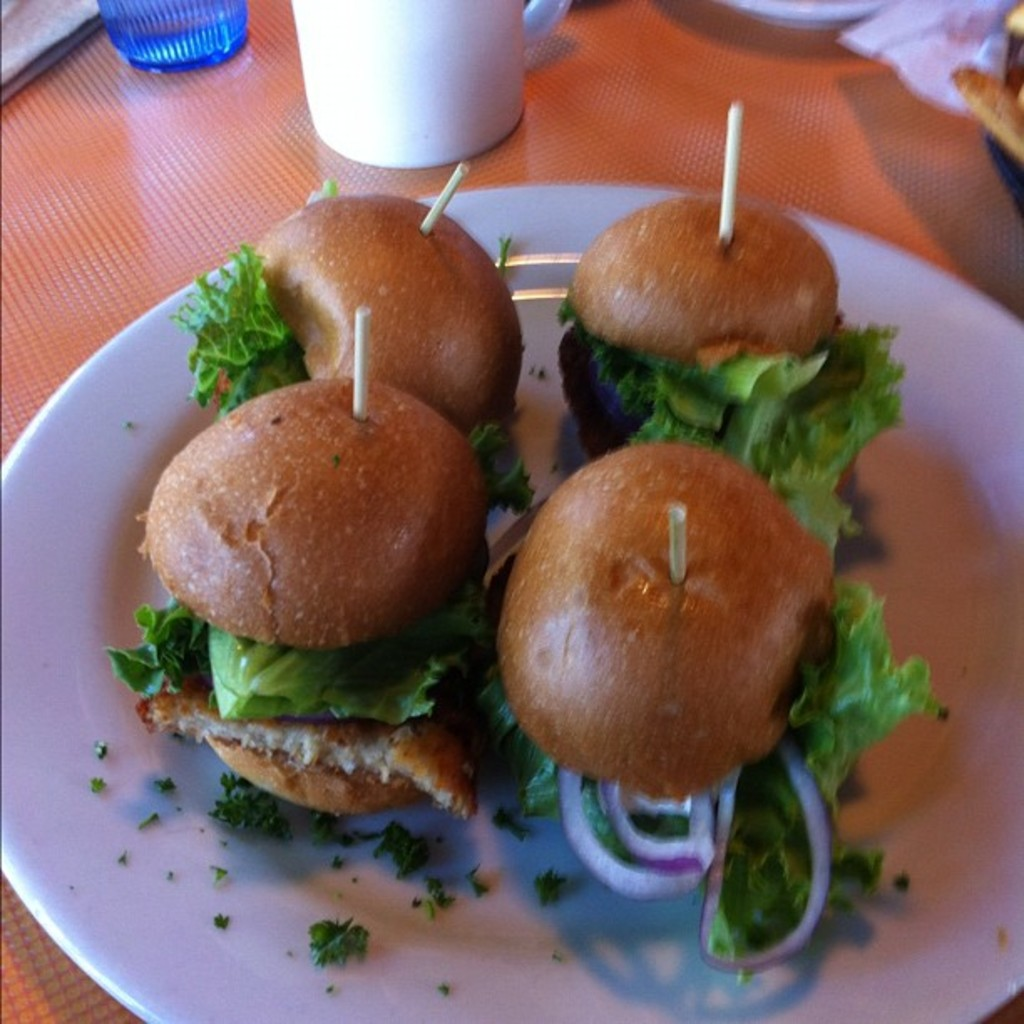Hamburger: (483, 446, 938, 977), (105, 381, 488, 816), (557, 195, 901, 552), (162, 180, 525, 496)
